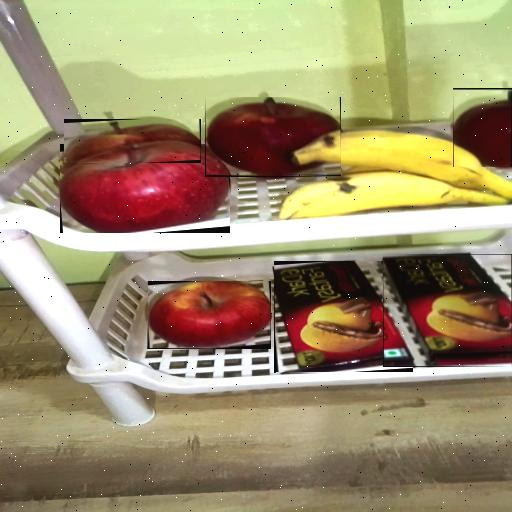Apple: (60, 144, 230, 233), (205, 98, 341, 178), (146, 281, 270, 349), (64, 119, 201, 163), (453, 88, 512, 167)
Choco Fills: (274, 262, 413, 374), (383, 254, 512, 367)
